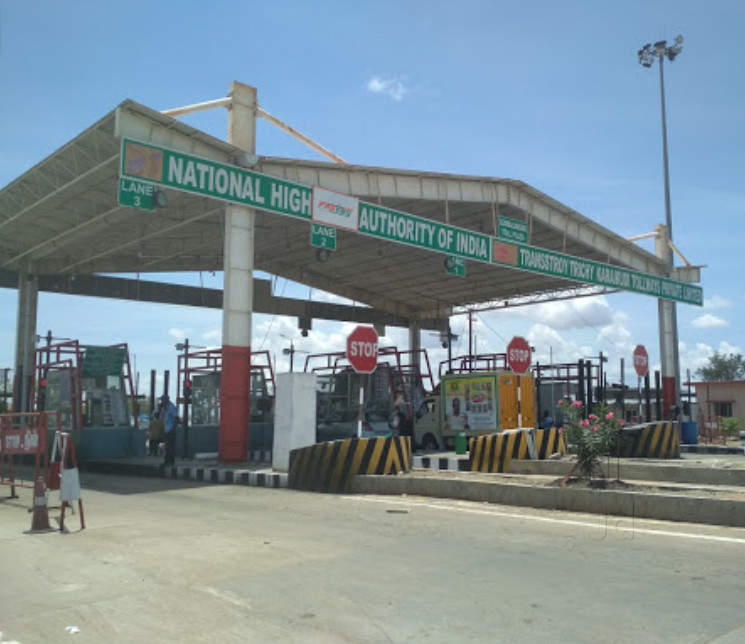toll plaza: (3, 85, 687, 509)
